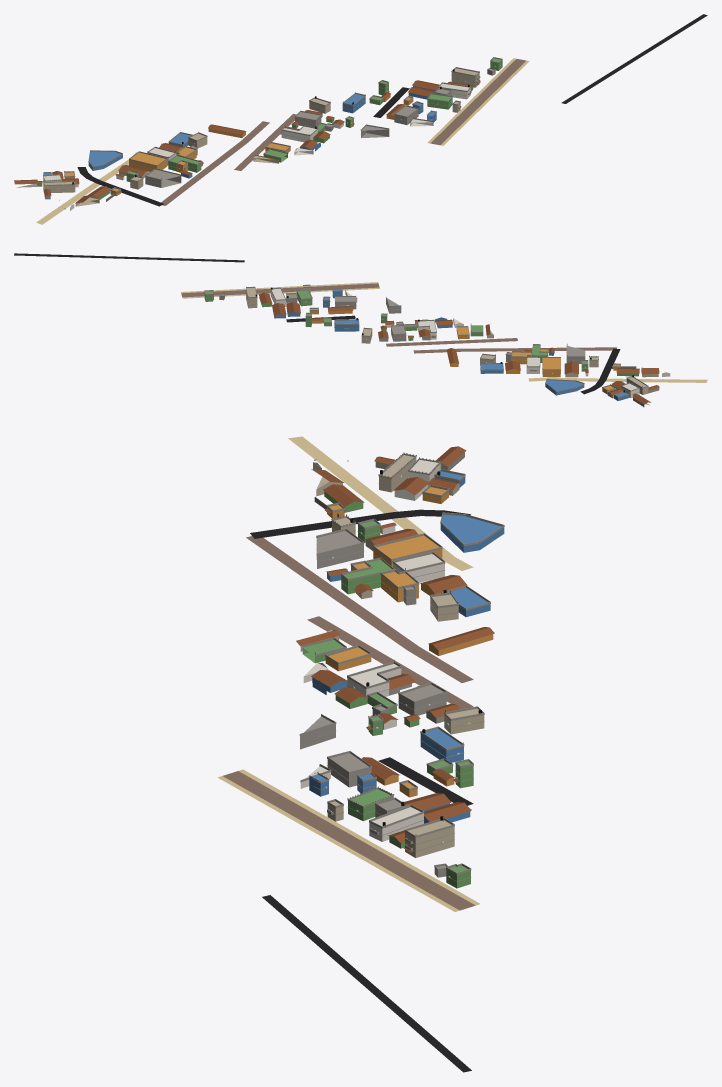
The model's file is zone_t1_3.glb.
3 renders of one model, top to bottom at view 1: azimuth 30°, elevation 25°; view 2: azimuth 150°, elevation 25°; view 3: azimuth 270°, elevation 25°, orthographic. The views are drawn at different scales.
Visible parts, largest first — view 1: parapet_t1_3, toit_tole_t1_3, bld_peinture_ecaillee_t1_3-col, bld_beton_t1_3-col, bld_peinture_vert_t1_3-col, bld_peinture_bleu_t1_3-col, bld_peinture_blanc_t1_3-col, route_residential_paves_t1_3, bld_peinture_ocre_t1_3-col, route_tertiary_paves_t1_3, accotement_t1_3, route_residential_bitume_t1_3 (+3 smaller); view 2: parapet_t1_3, toit_tole_t1_3, bld_peinture_bleu_t1_3-col, bld_beton_t1_3-col, bld_peinture_ocre_t1_3-col, route_residential_paves_t1_3, bld_peinture_vert_t1_3-col, bld_peinture_ecaillee_t1_3-col, bld_peinture_blanc_t1_3-col, route_tertiary_paves_t1_3, route_service_bitume_t1_3, route_residential_bitume_t1_3 (+3 smaller); view 3: parapet_t1_3, toit_tole_t1_3, bld_beton_t1_3-col, bld_peinture_vert_t1_3-col, bld_peinture_bleu_t1_3-col, bld_peinture_ecaillee_t1_3-col, bld_peinture_blanc_t1_3-col, route_residential_paves_t1_3, bld_peinture_ocre_t1_3-col, route_tertiary_paves_t1_3, accotement_t1_3, route_residential_bitume_t1_3 (+3 smaller).
Boxes of the visible parts, x1=… form: parapet_t1_3: x1=43, y1=57, x2=502, y2=200; toit_tole_t1_3: x1=14, y1=80, x2=473, y2=203; bld_peinture_ecaillee_t1_3-col: x1=43, y1=68, x2=479, y2=206; bld_beton_t1_3-col: x1=16, y1=69, x2=495, y2=199; bld_peinture_vert_t1_3-col: x1=37, y1=58, x2=502, y2=199; bld_peinture_bleu_t1_3-col: x1=43, y1=86, x2=436, y2=178; bld_peinture_blanc_t1_3-col: x1=43, y1=83, x2=470, y2=210; route_residential_paves_t1_3: x1=161, y1=114, x2=296, y2=205; bld_peinture_ocre_t1_3-col: x1=64, y1=95, x2=413, y2=196; route_tertiary_paves_t1_3: x1=430, y1=59, x2=526, y2=145; accotement_t1_3: x1=427, y1=58, x2=529, y2=145; route_residential_bitume_t1_3: x1=77, y1=87, x2=409, y2=206; parapet_t1_3: x1=204, y1=284, x2=662, y2=397; toit_tole_t1_3: x1=258, y1=292, x2=659, y2=404; bld_peinture_bleu_t1_3-col: x1=274, y1=289, x2=629, y2=400; bld_beton_t1_3-col: x1=219, y1=294, x2=659, y2=406; bld_peinture_ocre_t1_3-col: x1=309, y1=309, x2=620, y2=394; route_residential_paves_t1_3: x1=386, y1=338, x2=616, y2=353; bld_peinture_vert_t1_3-col: x1=204, y1=290, x2=639, y2=396; bld_peinture_ecaillee_t1_3-col: x1=246, y1=285, x2=658, y2=398; bld_peinture_blanc_t1_3-col: x1=270, y1=288, x2=670, y2=397; route_tertiary_paves_t1_3: x1=181, y1=283, x2=379, y2=297; route_service_bitume_t1_3: x1=14, y1=253, x2=244, y2=262; route_residential_bitume_t1_3: x1=286, y1=315, x2=620, y2=394; parapet_t1_3: x1=299, y1=452, x2=504, y2=874; toit_tole_t1_3: x1=296, y1=446, x2=494, y2=842; bld_beton_t1_3-col: x1=300, y1=452, x2=464, y2=877; bld_peinture_vert_t1_3-col: x1=302, y1=466, x2=473, y2=888; bld_peinture_bleu_t1_3-col: x1=309, y1=471, x2=504, y2=823; bld_peinture_ecaillee_t1_3-col: x1=300, y1=455, x2=484, y2=857; bld_peinture_blanc_t1_3-col: x1=300, y1=460, x2=444, y2=841; route_residential_paves_t1_3: x1=246, y1=536, x2=473, y2=709; bld_peinture_ocre_t1_3-col: x1=325, y1=487, x2=493, y2=797; route_tertiary_paves_t1_3: x1=223, y1=771, x2=475, y2=910; accotement_t1_3: x1=217, y1=769, x2=479, y2=911; route_residential_bitume_t1_3: x1=250, y1=509, x2=473, y2=805.
Bounding box in the file's own units: 607 × 11 × 116.
